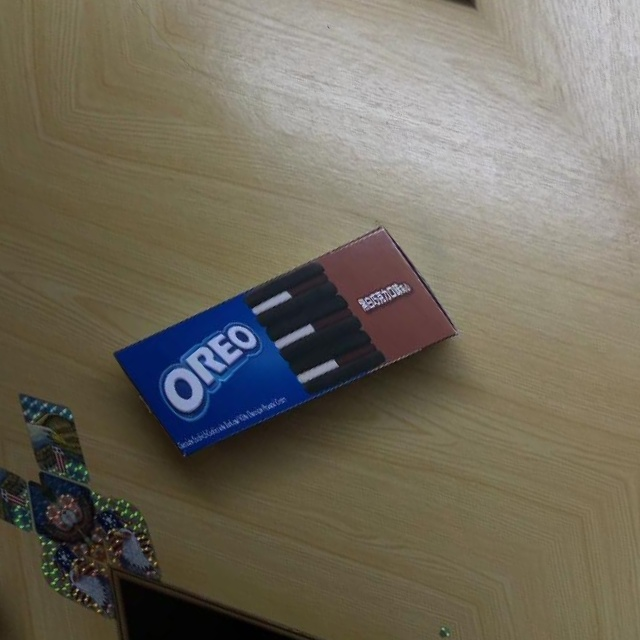Oreo: (100, 164, 470, 522)
